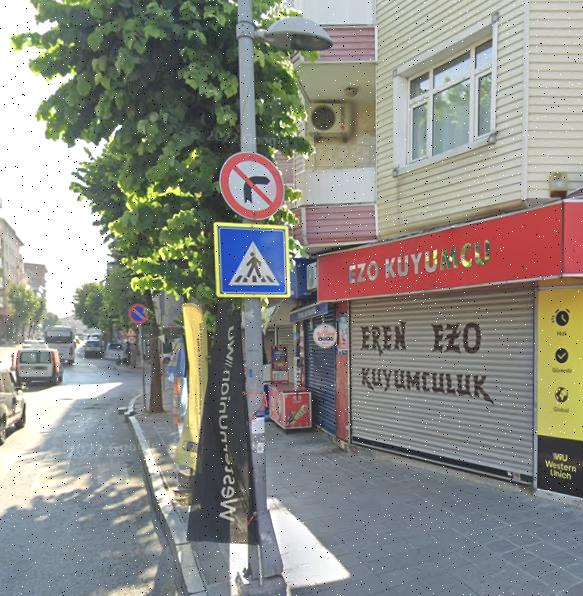rightturnsareforbidden: (221, 155, 282, 218)
